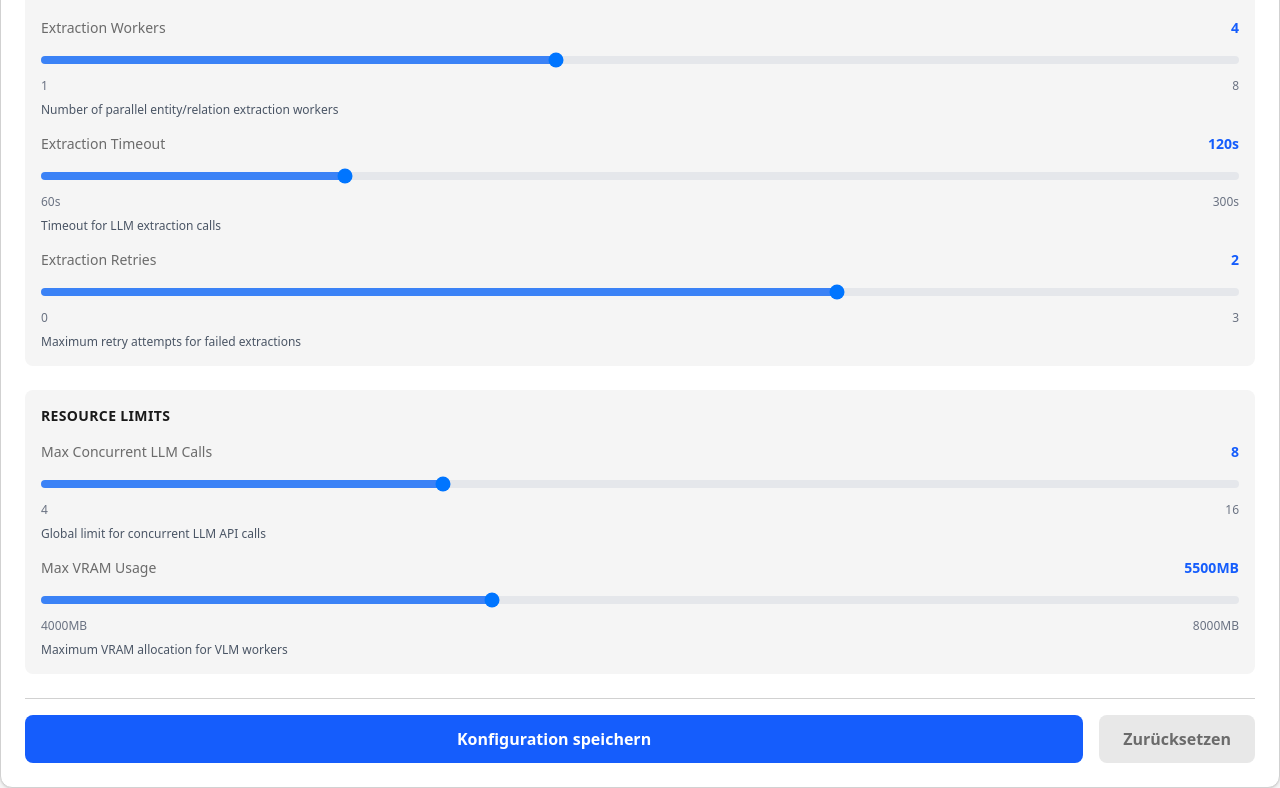
it: PipelineConfigPanel › Configuration Management › shows error message on save failure
The image size is (1280, 788).
(page scrolled)
What coordinates should you click on to do the following:
click the button with test id "config-save-button"
I would click on:
 (554, 739)
Its box is [25,715,1083,763].
(page scrolled)
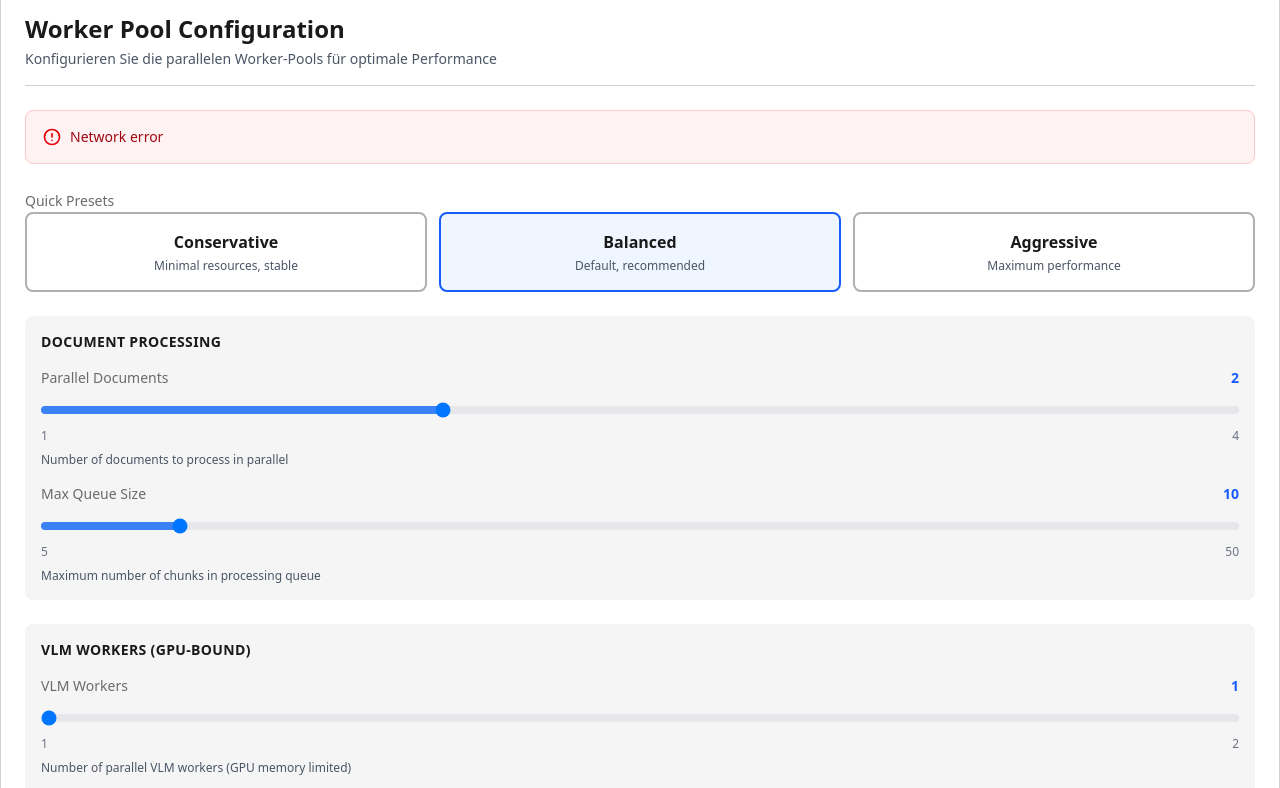
Check: the element with test id "config-error" is shown, box [25,110,1255,164]
